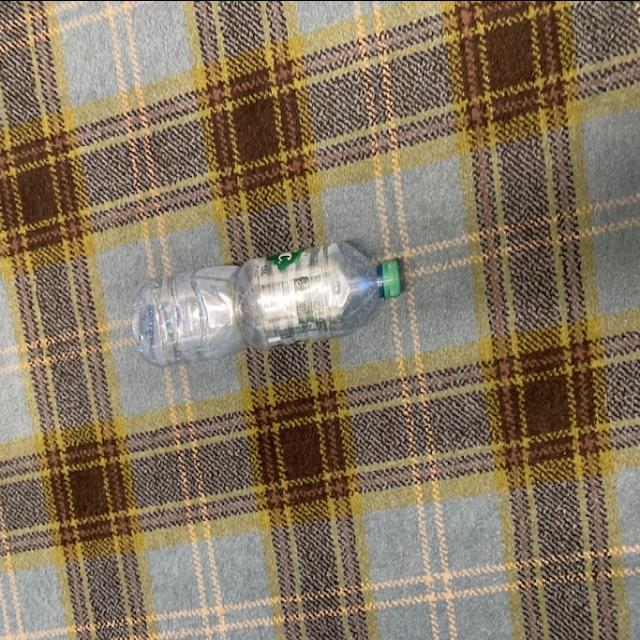PET: (132, 236, 408, 366)
